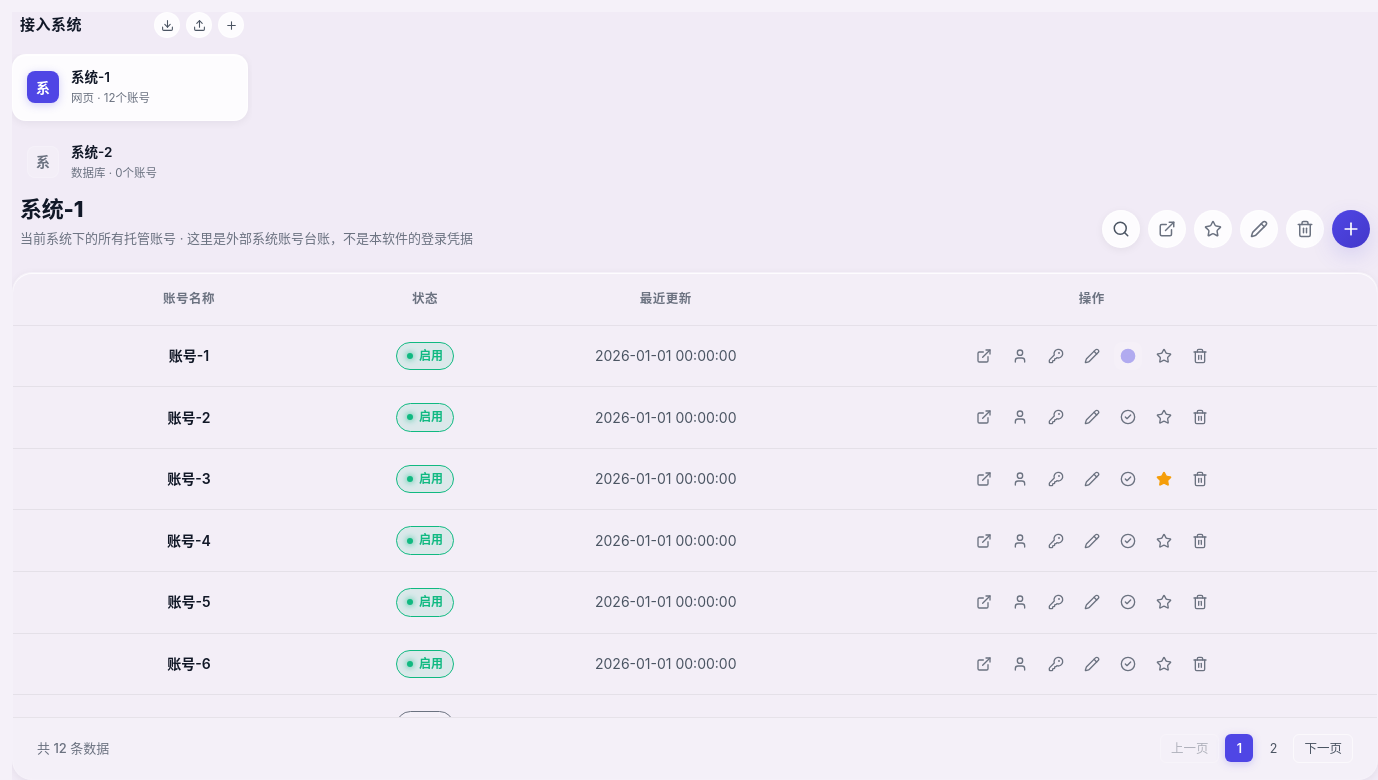
右栏的关键字、只看关注与分页 › 收起搜索钮顺手清空关键字，列表不会被一个看不见的条件继续收窄
Check: the text "账号-1" is shown, box [169, 345, 209, 367]
Step 1. Click the button named "搜索账号名称" → coordinates (1121, 229), box [1103, 211, 1139, 247]
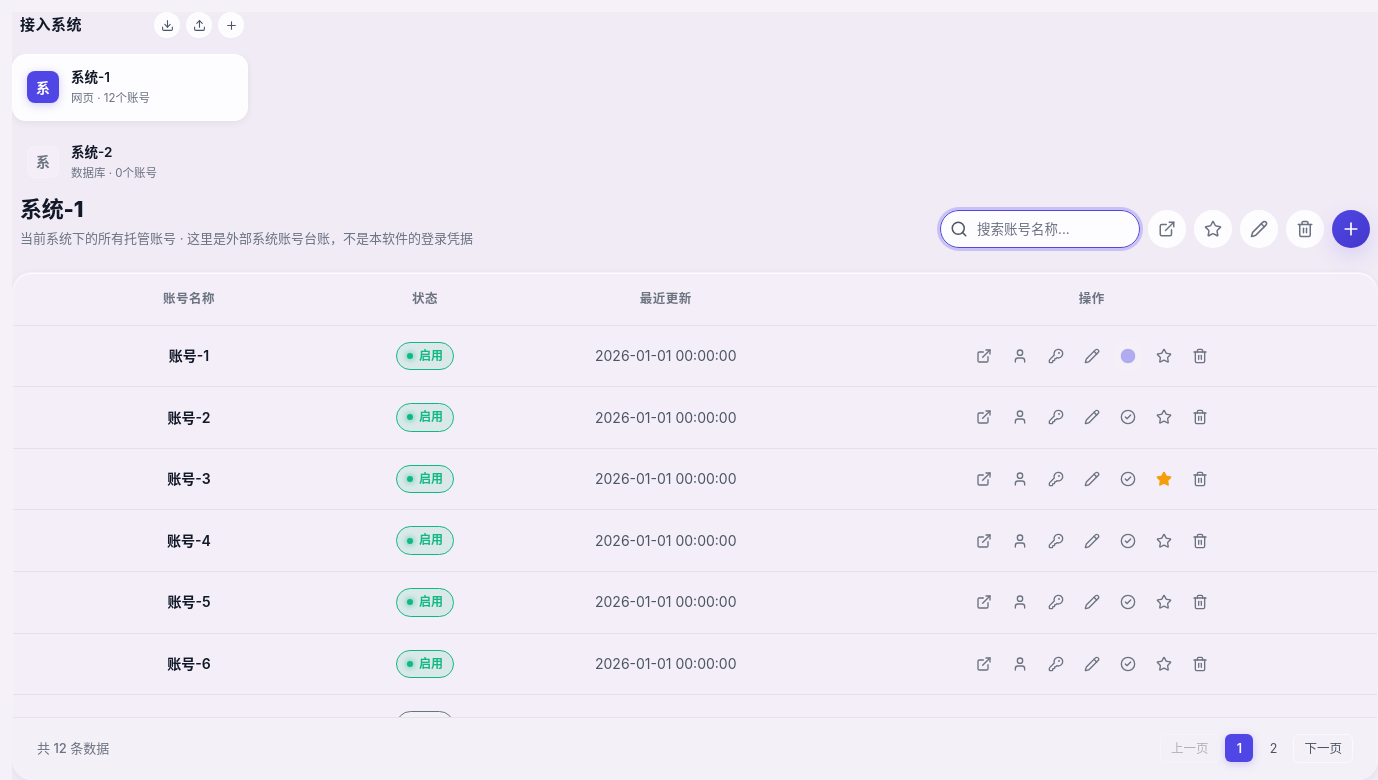
Step 2. Type "账号-11" into the field with placeholder "搜索账号名称..." → coordinates (1051, 229), box [977, 219, 1125, 240]
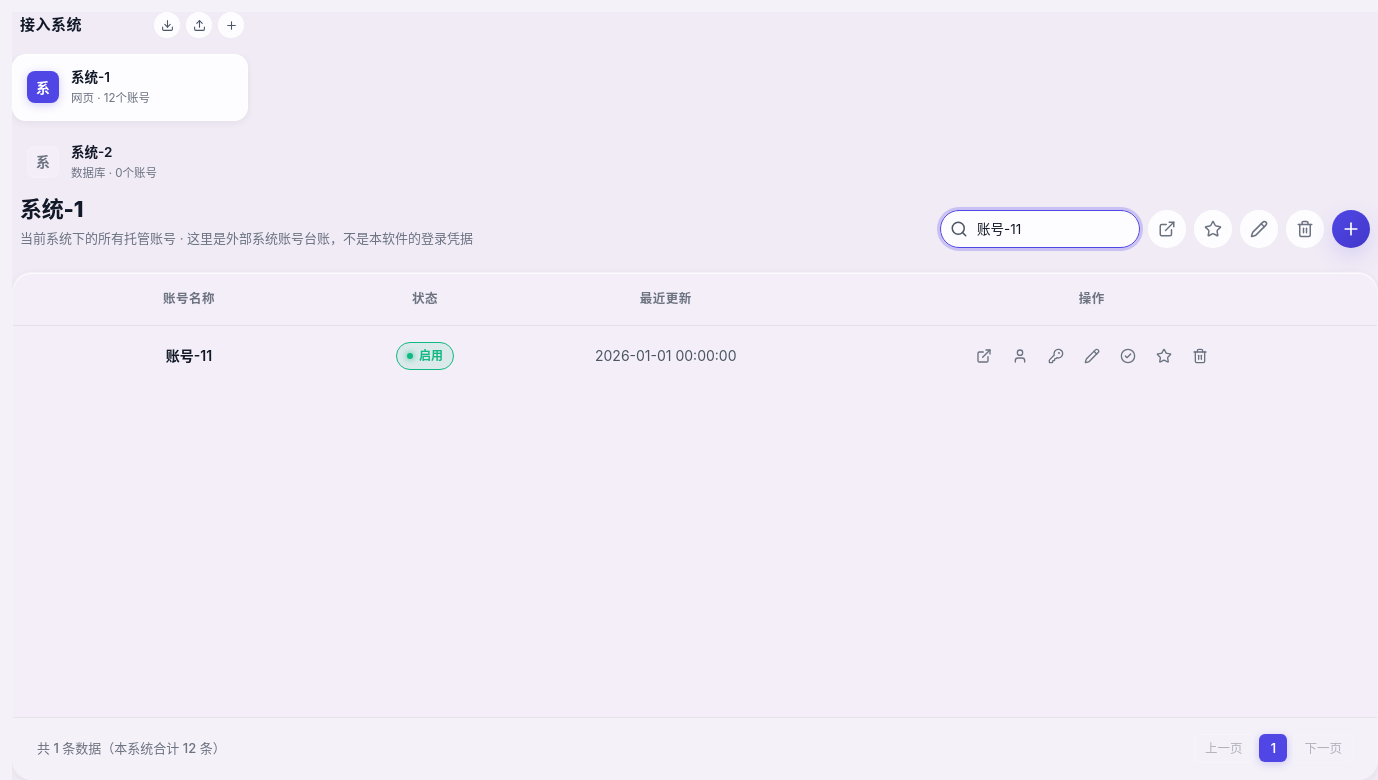
Check: the number of rows is 2, box [13, 273, 1377, 326]; [166, 342, 1214, 370]
Step 3. Click the button named "搜索账号名称" → coordinates (959, 229), box [941, 211, 977, 247]
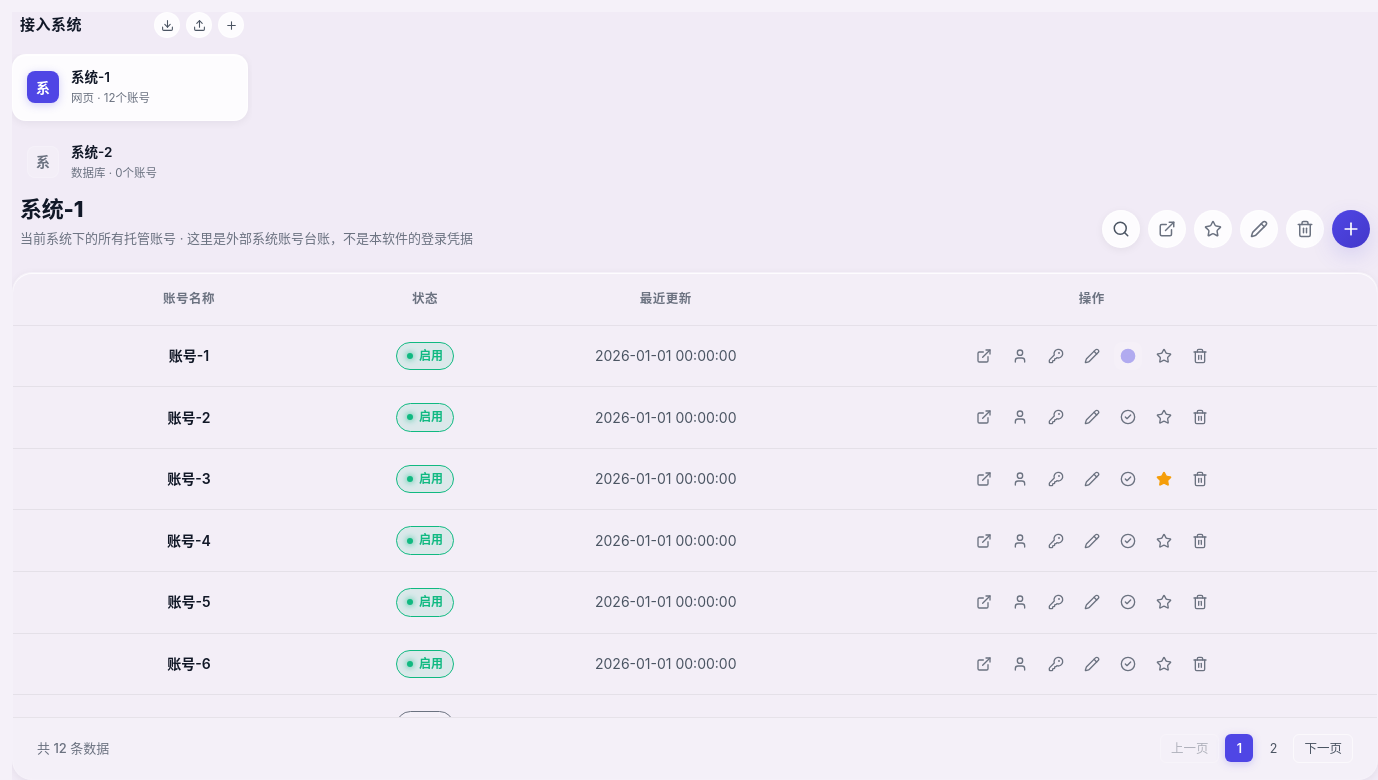
Check: the message reads "共 12 条数据", box [37, 738, 109, 758]
Check: the message "共 1 条数据（本系统合计 12 条）" no longer shows "本系统合计"
Check: the field with placeholder "搜索账号名称..." is gone
